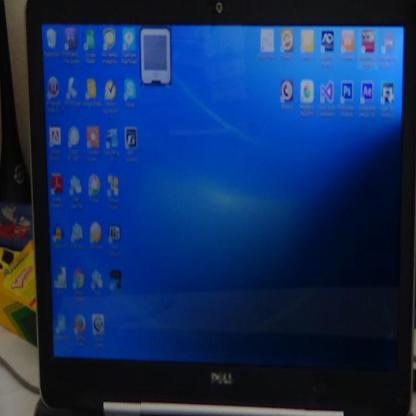fade: (215, 87, 403, 360)
